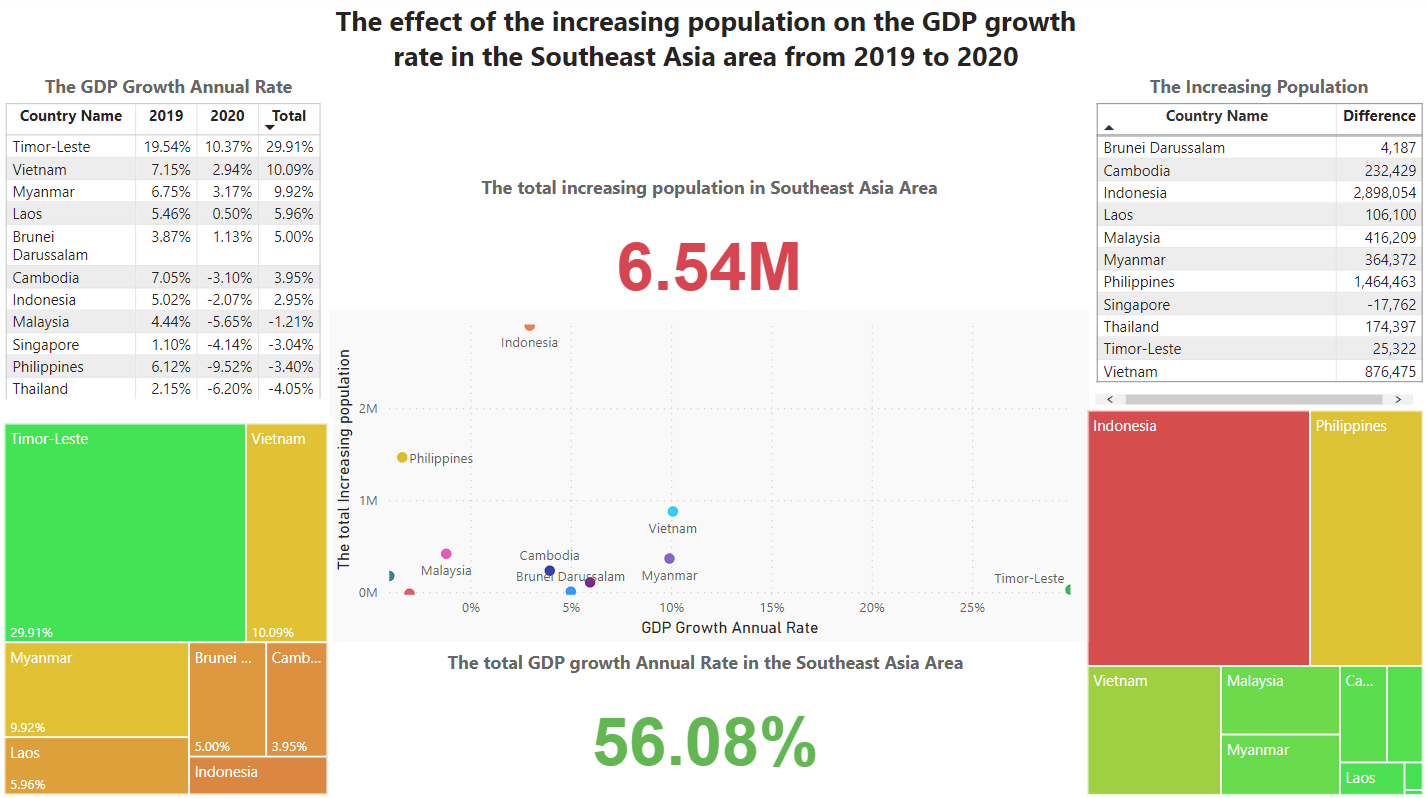

Layout of this report page (visuals, bound fields, positions):
{"tool":"powerbi","page":{"name":"Page 1","canvas":[1280,720],"ordinal":0},"visuals":[{"type":"treemap","fields":{"Values":["Sum(Populaion total.Difference)"],"Group":["Populaion total.Country_Name"]},"box":[969.9,366.3,309.9,353.7],"z":0},{"type":"card","title":"The total increasing population in Southeast Asia Area","fields":{"Values":["Sum(Populaion total.Difference)"]},"box":[295.5,160.3,681.5,134.3],"z":1000},{"type":"tableEx","title":"The Increasing Population","fields":{"Values":["Populaion total.Country Name","Populaion total.Difference"]},"box":[977,69.9,302.7,300.9],"z":2000},{"type":"tableEx","title":"The GDP Growth Annual Rate","fields":{"Values":["GDP Growth Annual.Country Name","GDP Growth Annual.2019","GDP Growth Annual.2020","GDP Growth Annual.Total"]},"box":[0,69.9,303.6,302.7],"z":3000},{"type":"scatterChart","fields":{"X":["Sum(GDP Growth Annual.Total)"],"Y":["Sum(Populaion total.Difference)"],"Series":["Populaion total.Country Name"]},"box":[295.5,281.2,681.5,297.3],"z":4000},{"type":"card","title":"The total GDP growth Annual Rate in the Southeast Asia Area","fields":{"Values":["Sum(GDP Growth Annual.Total)"]},"box":[295.5,585.7,674.3,134.3],"z":5000},{"type":"treemap","fields":{"Values":["Sum(GDP Growth Annual.Total)"],"Group":["Populaion total.Country_Name"]},"box":[0,377.9,299.1,342.1],"z":6000},{"type":"textbox","box":[295.5,0,681.5,77],"z":7000}]}

Visuals, with their boxes in screenshot pixels (x1, y1, x2, y2), scaled from the page's 1280x720 canvas onto the 1427x798 screenshot:
treemap - Sum(Populaion total.Difference) x Populaion total.Country_Name: x1=1081, y1=406, x2=1426, y2=797
"The total increasing population in Southeast Asia Area" card: x1=329, y1=178, x2=1089, y2=327
"The Increasing Population" tableEx: x1=1089, y1=77, x2=1426, y2=411
"The GDP Growth Annual Rate" tableEx: x1=0, y1=77, x2=338, y2=413
scatterChart - Sum(GDP Growth Annual.Total) x Sum(Populaion total.Difference): x1=329, y1=312, x2=1089, y2=641
"The total GDP growth Annual Rate in the Southeast Asia Area" card: x1=329, y1=649, x2=1081, y2=797
treemap - Sum(GDP Growth Annual.Total) x Populaion total.Country_Name: x1=0, y1=419, x2=333, y2=797
textbox: x1=329, y1=0, x2=1089, y2=85
